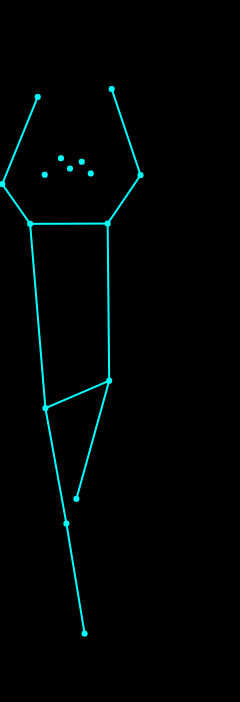tree: (1, 81, 177, 639)
